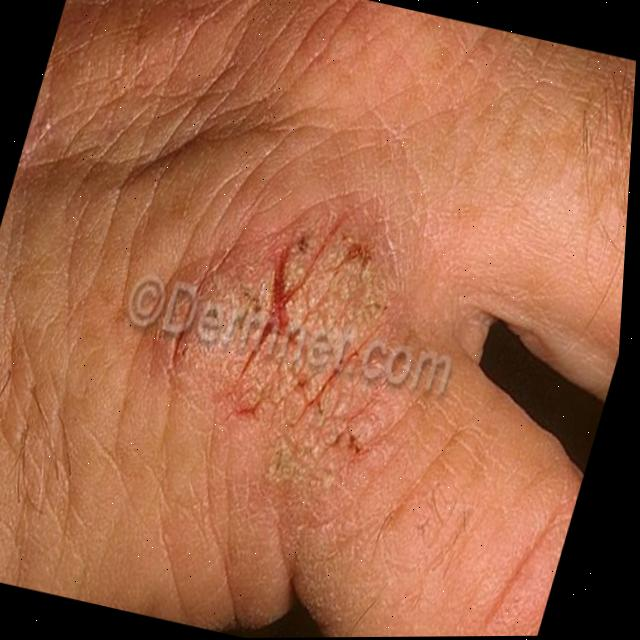Eczema: (177, 211, 412, 472)
